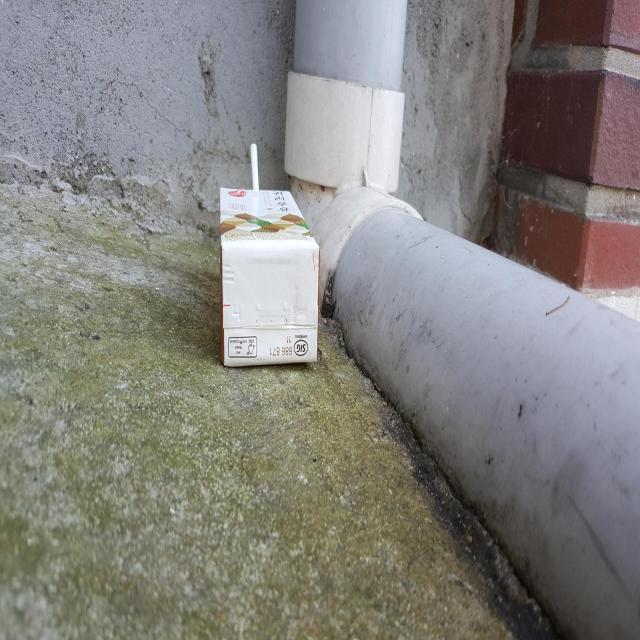paperpack: (220, 187, 319, 365)
